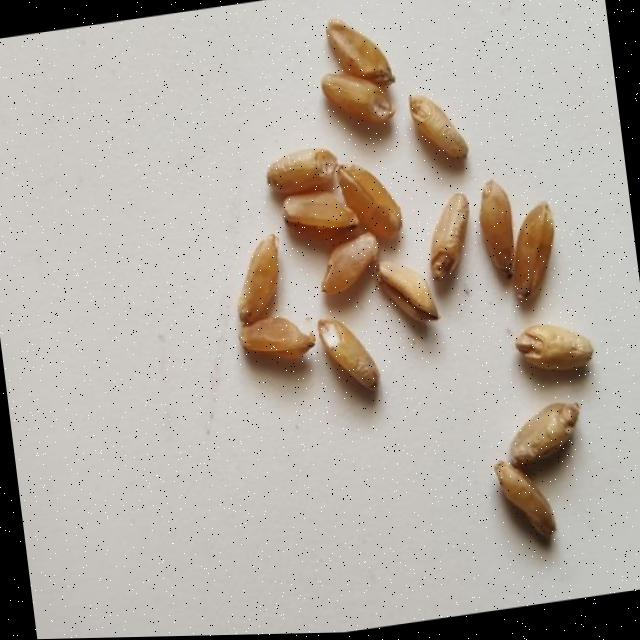wheat_grain: (336, 164, 402, 242), (494, 460, 555, 538), (325, 17, 395, 84), (508, 402, 578, 468), (511, 202, 554, 303), (318, 318, 378, 390), (377, 261, 440, 323), (321, 72, 393, 126), (409, 94, 467, 160), (239, 233, 280, 325), (321, 231, 377, 294), (516, 323, 591, 370), (266, 147, 340, 193), (284, 193, 360, 237), (239, 315, 316, 358), (480, 180, 514, 277), (430, 192, 467, 279)
